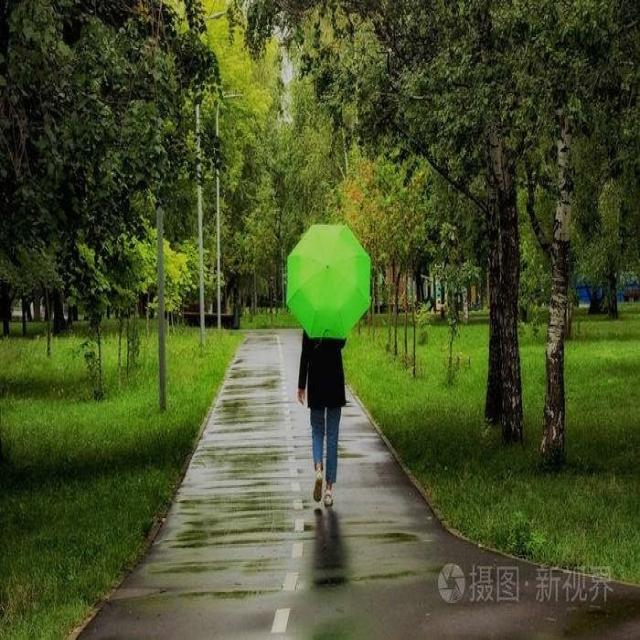non-fight: (292, 220, 356, 516)
